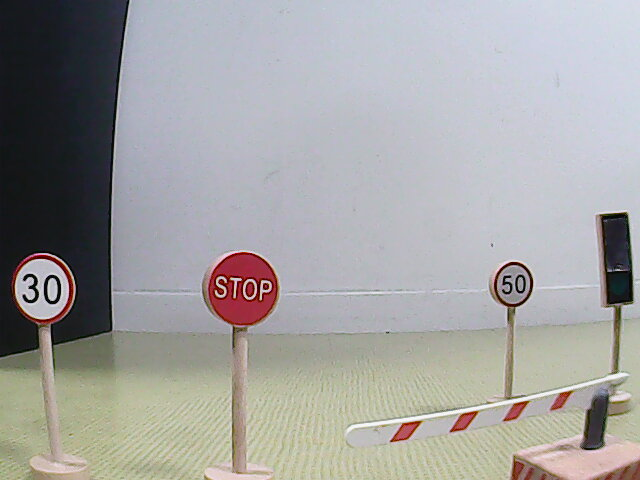barrier: (341, 368, 640, 479)
green_traffic_sign: (596, 212, 633, 306)
sign_30: (12, 251, 76, 326)
sign_50: (490, 259, 534, 307)
stop_sign: (202, 251, 282, 327)
